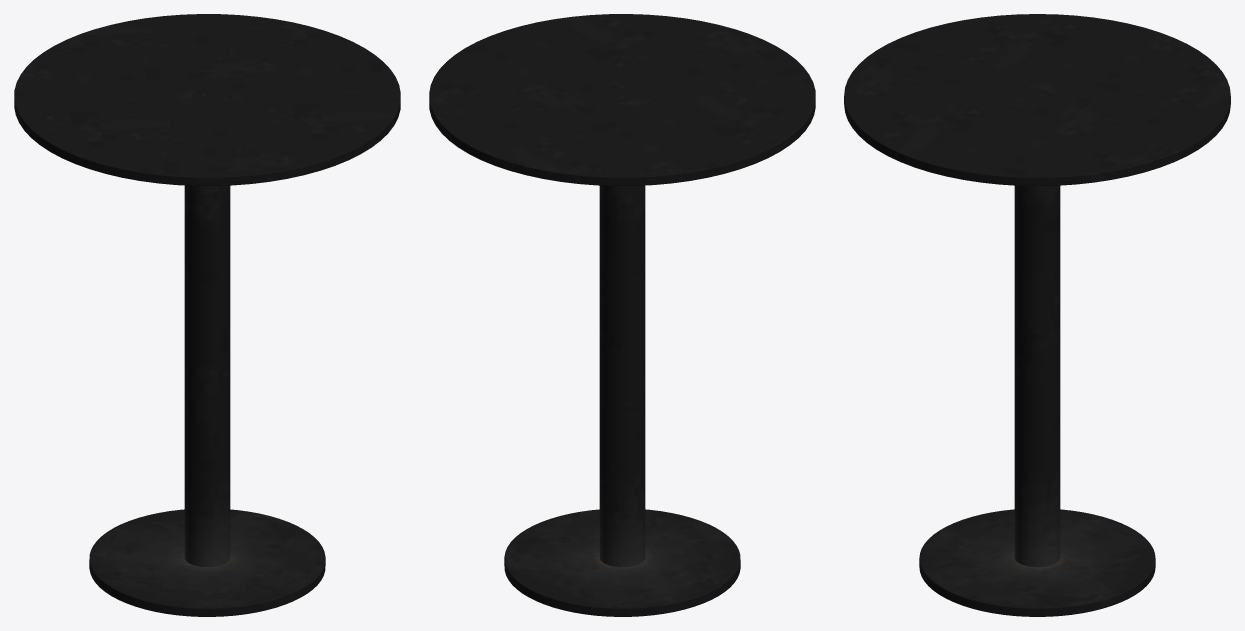
File: Table32.glb
3 renders of one model, left to right at view 1: azimuth 30°, elevation 25°; view 2: azimuth 150°, elevation 25°; view 3: azimuth 270°, elevation 25°, orthographic.
Parts seen in each view (by area): view 1: Table32_model; view 2: Table32_model; view 3: Table32_model.
Part boxes in pixels (x1,y1,x2,y2): Table32_model: (14,14,400,616); Table32_model: (429,14,815,616); Table32_model: (844,14,1230,616).
Size of the model in its own units: 1.7 by 2.29 by 1.7.
1 material, 1 textured.
